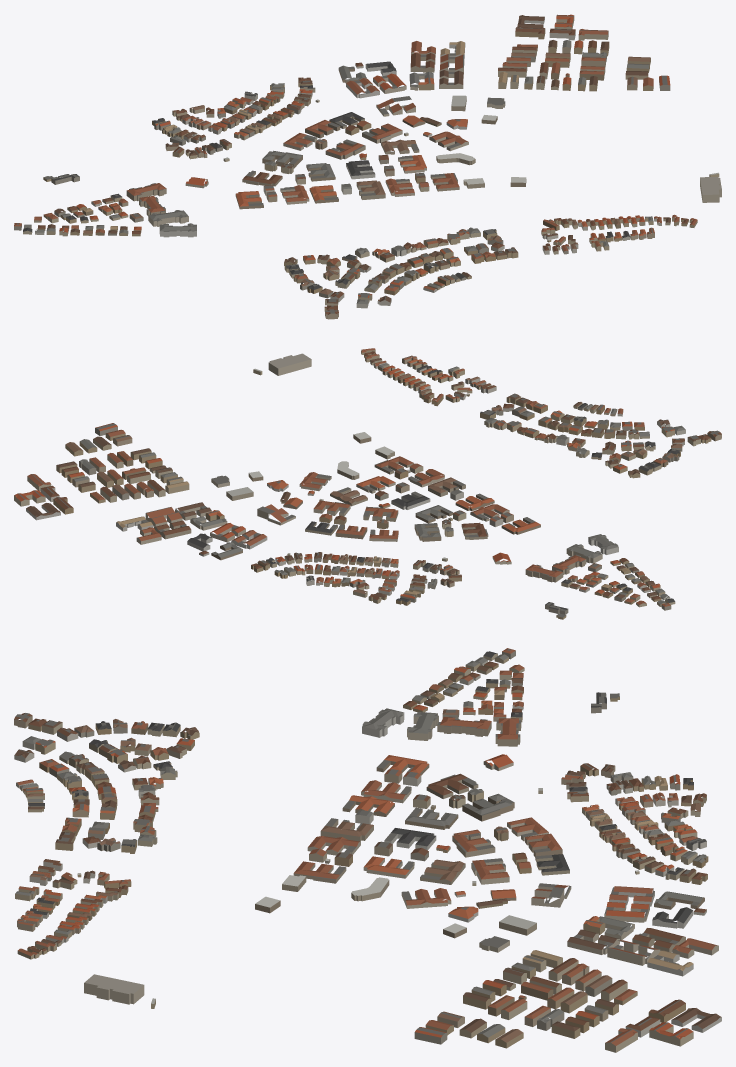
3 views of the same model, one above another, from view 1: azimuth 30°, elevation 25°; view 2: azimuth 150°, elevation 25°; view 3: azimuth 270°, elevation 25° (orthographic). The views are drawn at different scales.
Visible parts, largest first — view 1: buildings_r3_c4_lod1; view 2: buildings_r3_c4_lod1; view 3: buildings_r3_c4_lod1.
Boxes of the visible parts, left/top/right/bottom form: buildings_r3_c4_lod1: left=14, top=14, right=721, bottom=319; buildings_r3_c4_lod1: left=14, top=348, right=721, bottom=619; buildings_r3_c4_lod1: left=14, top=648, right=721, bottom=1052.
Bounding box in the file's own units: 1133 × 36.65 × 820.
